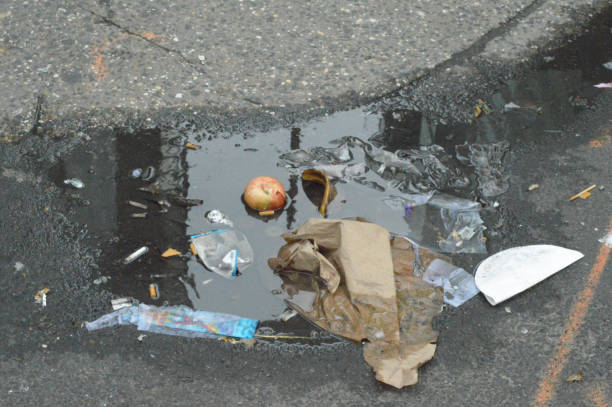General waste: (296, 212, 442, 380), (478, 238, 581, 310), (121, 304, 265, 339), (193, 228, 251, 277), (244, 178, 290, 215)
